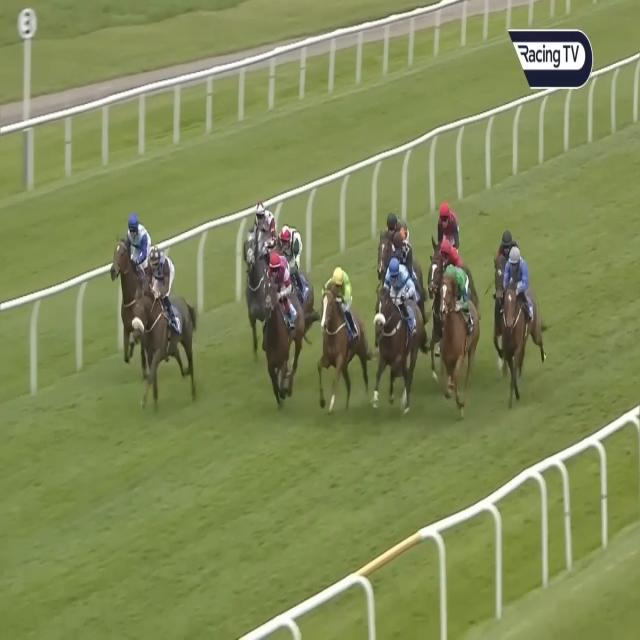horses-racing: (130, 248, 198, 404), (255, 248, 306, 404), (373, 260, 423, 411), (317, 268, 366, 412), (435, 268, 479, 410), (500, 252, 538, 402), (232, 203, 274, 333), (109, 207, 149, 340), (487, 227, 519, 312), (426, 193, 464, 254), (278, 222, 307, 290), (379, 212, 410, 268), (386, 233, 417, 267), (432, 241, 466, 271)
